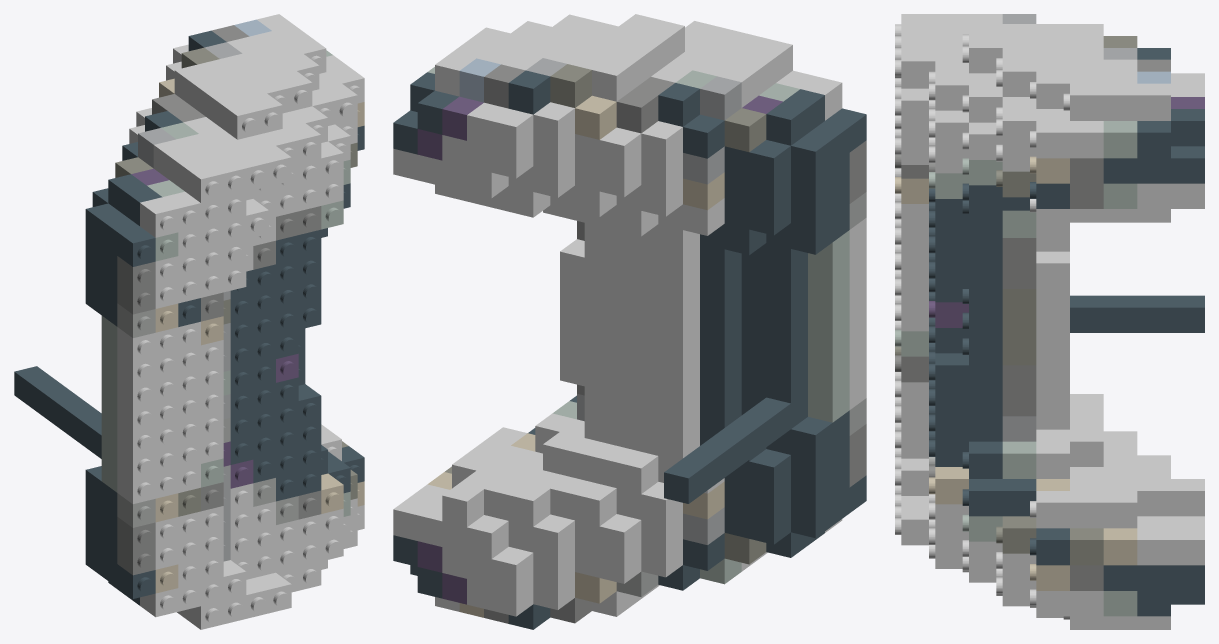
Rendered from full.glb.
The picture shows the model from 3 angles, left to right: view 1: azimuth 30°, elevation 25°; view 2: azimuth 150°, elevation 25°; view 3: azimuth 270°, elevation 25°; orthographic projection. The views are drawn at different scales.
Visible parts, largest first — view 1: world; view 2: world; view 3: world.
Part boxes in pixels (box(x1,y1,x2,y2)): world: box(14, 14, 364, 629); world: box(393, 14, 866, 629); world: box(895, 14, 1204, 629).
Size of the model in its own units: 104 by 168 by 88.2.
